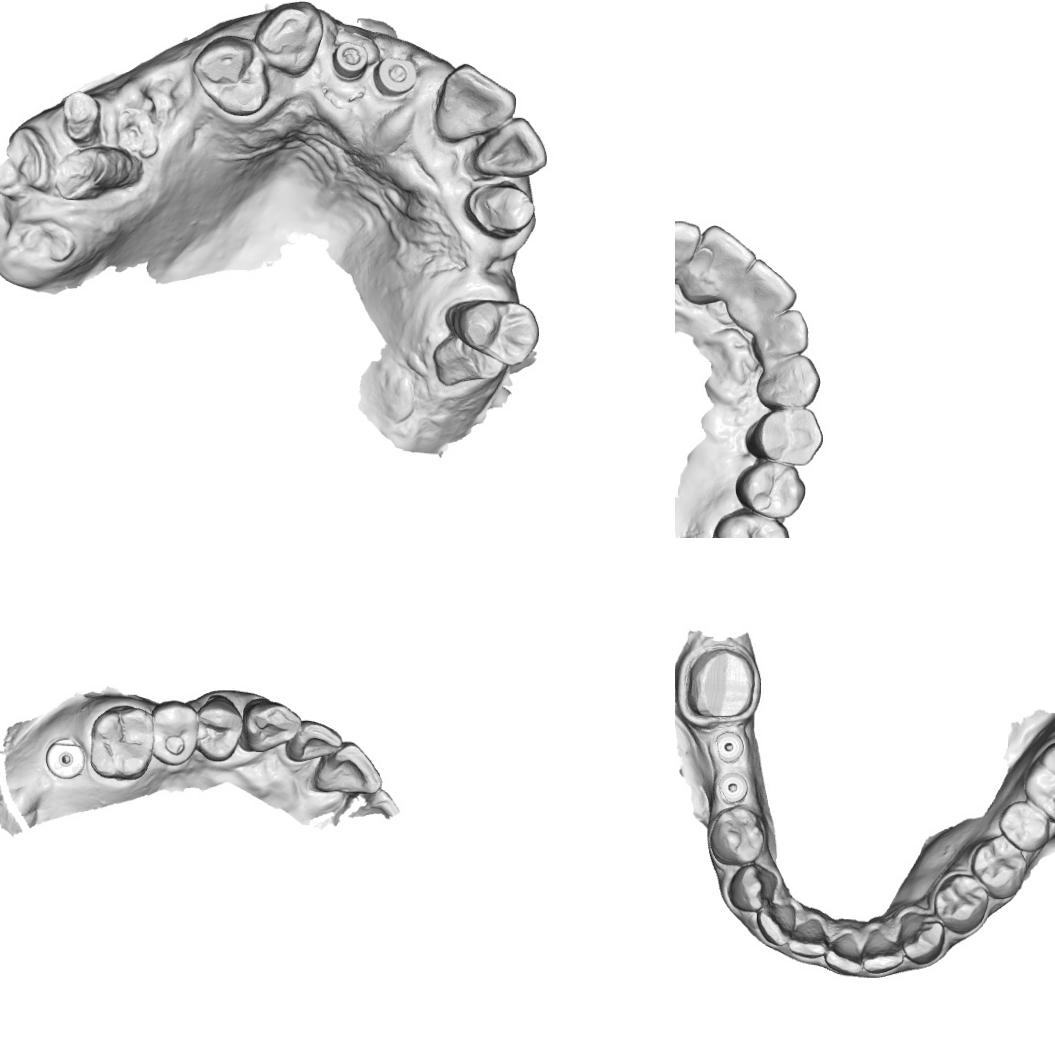canine: (251, 0, 325, 79), (237, 696, 303, 754), (754, 354, 822, 410), (726, 859, 780, 916), (895, 910, 946, 966)
implant: (371, 54, 420, 98), (44, 736, 88, 780), (330, 37, 371, 80), (712, 768, 752, 805), (711, 730, 749, 764)
incisor: (433, 60, 525, 144), (691, 222, 759, 298), (310, 727, 383, 796), (473, 115, 550, 178), (732, 258, 798, 324), (754, 308, 810, 362), (284, 718, 345, 764), (858, 925, 904, 977), (784, 914, 828, 966), (820, 929, 864, 981), (754, 901, 801, 949), (675, 217, 700, 276)
molar: (682, 646, 758, 721), (88, 704, 156, 782), (1019, 736, 1055, 825), (996, 798, 1052, 854), (710, 508, 792, 538)
premolar: (190, 33, 270, 119), (447, 297, 542, 368), (745, 408, 825, 467), (968, 832, 1032, 902), (732, 460, 806, 519), (929, 872, 990, 936), (708, 804, 768, 868), (149, 698, 199, 767), (196, 694, 244, 764)
